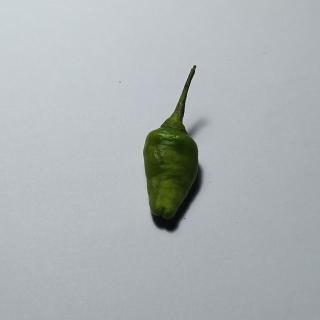Cabai Hijau: (137, 63, 213, 229)
